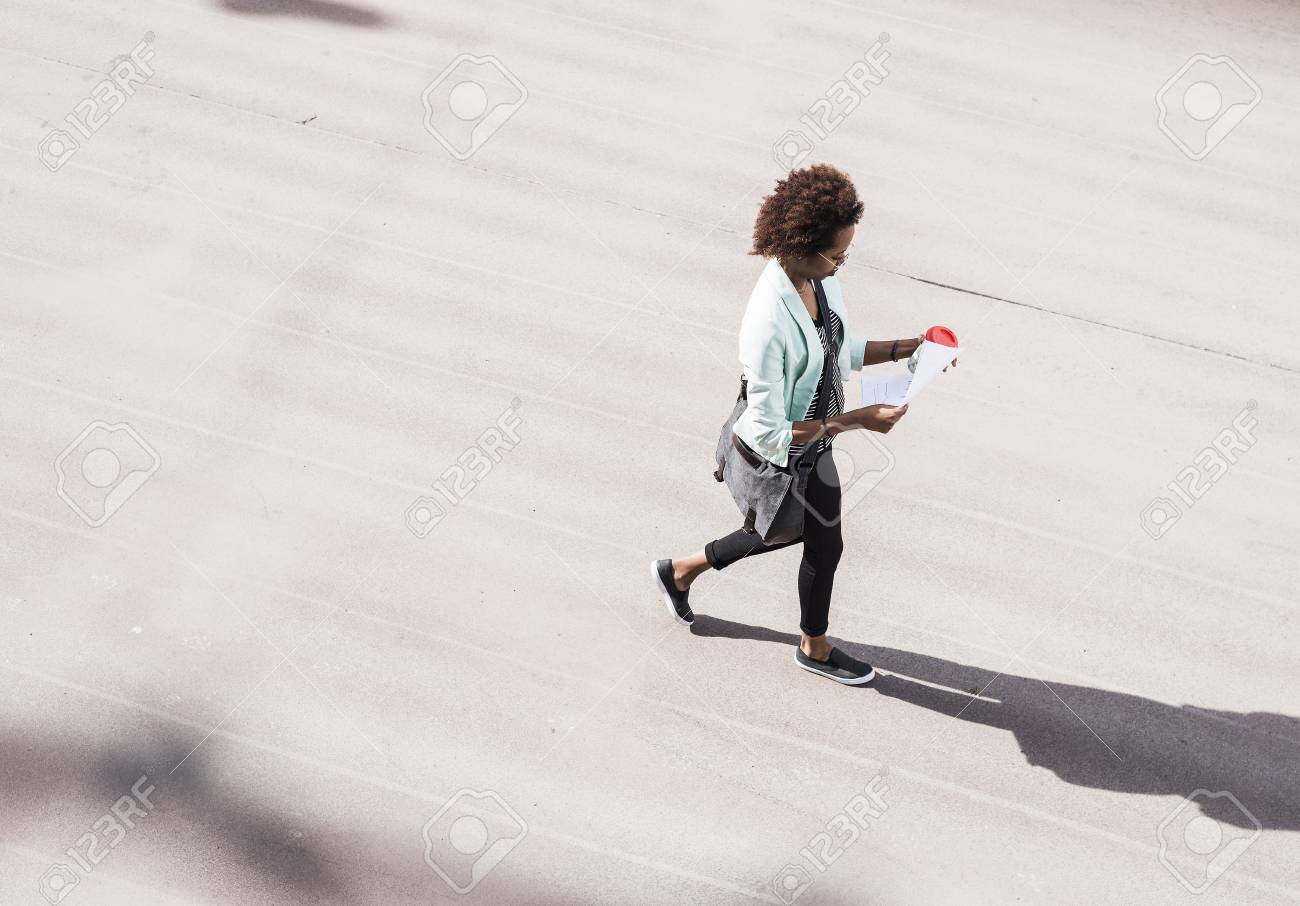Person: (650, 165, 968, 695)
